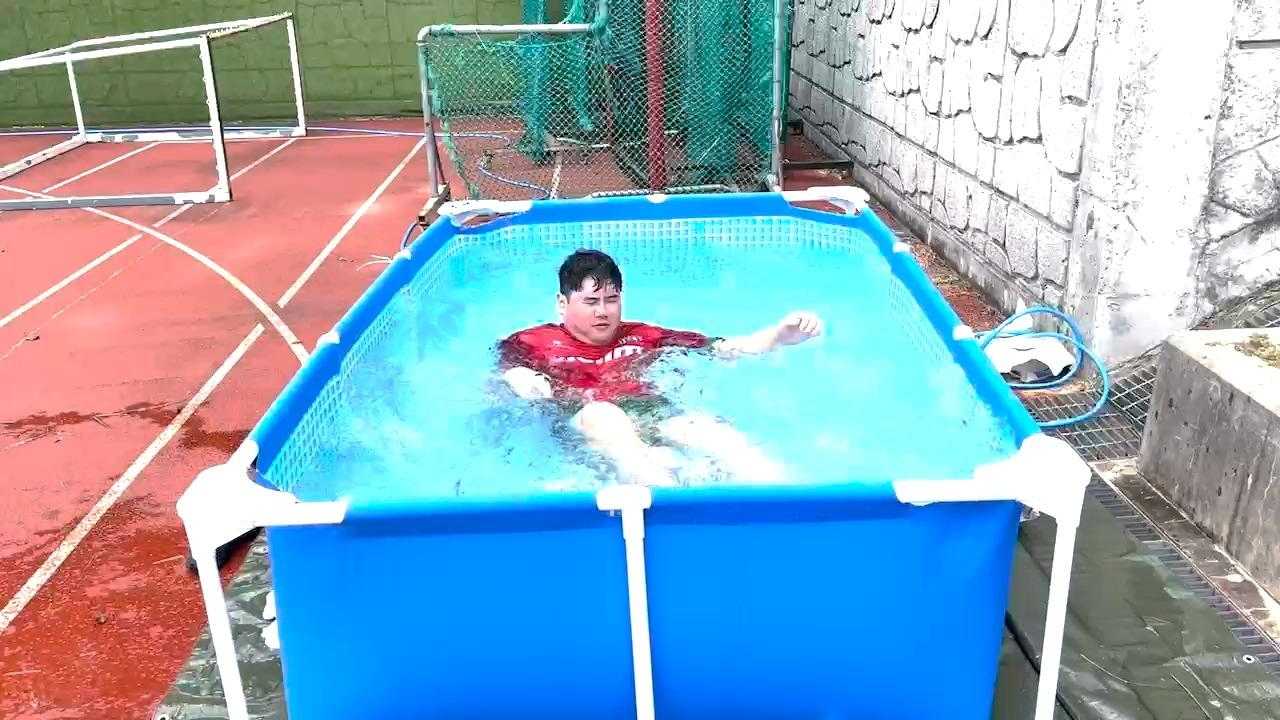Drowning: (487, 248, 818, 483)
